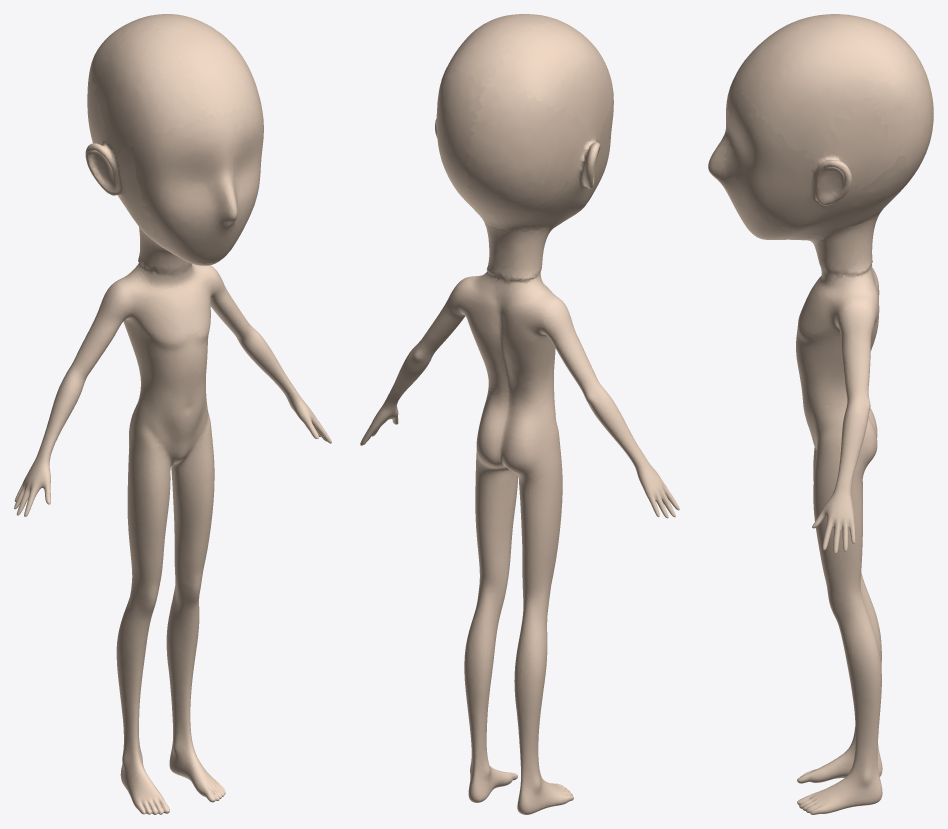
The model's file is char_namja_base_v17.glb.
3 views of the same model, side by side, from view 1: azimuth 30°, elevation 25°; view 2: azimuth 150°, elevation 25°; view 3: azimuth 270°, elevation 25° (orthographic).
Size of the model in its own units: 0.971 by 2.3 by 0.6095.
Materials: 1 (1 with a texture image).
